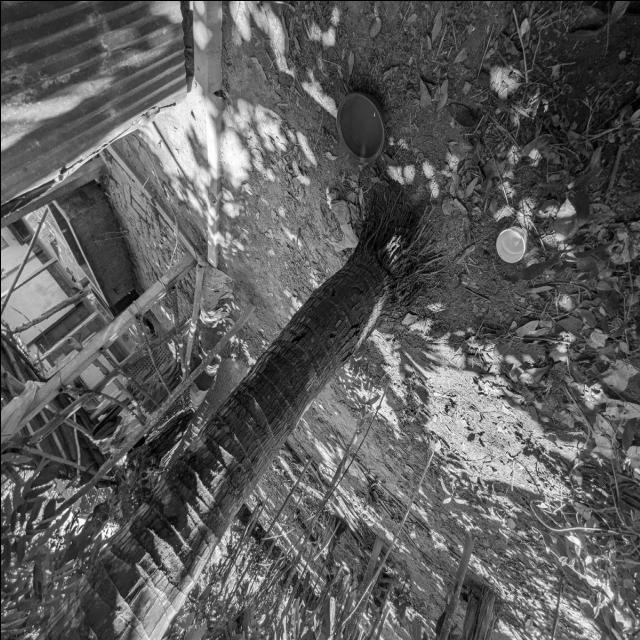Breeding Place: (441, 0, 640, 640), (38, 169, 139, 304), (278, 505, 398, 612), (327, 70, 390, 176), (487, 206, 537, 272)
